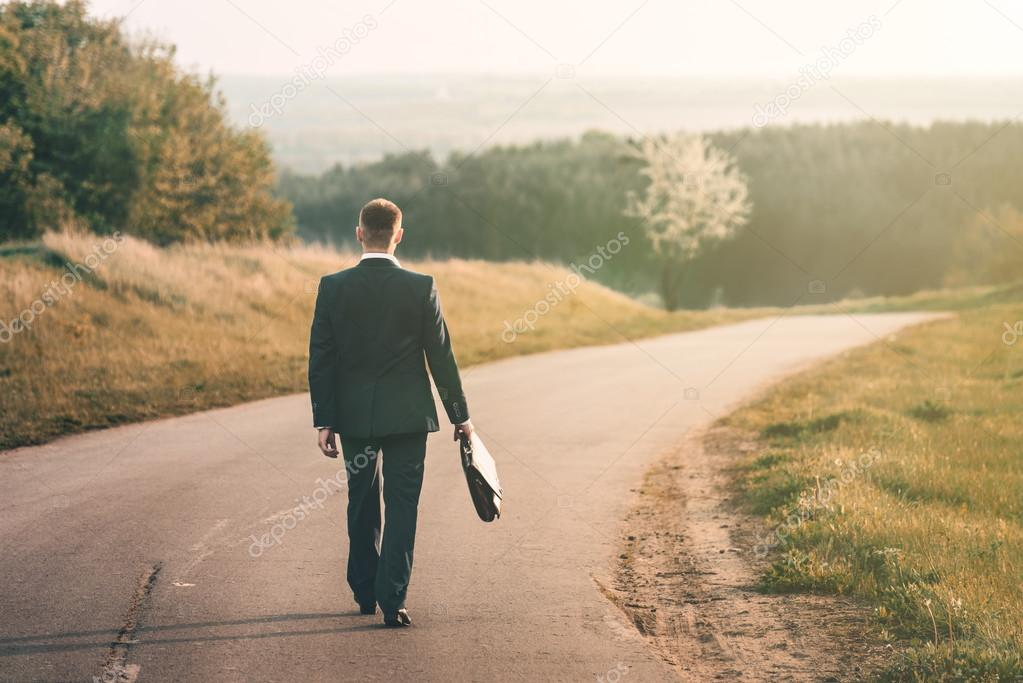Person: (294, 195, 508, 636)
